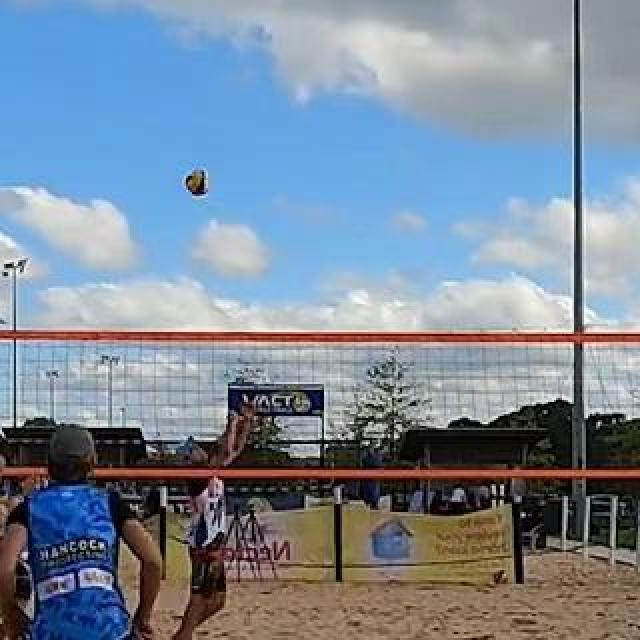volleyball: (187, 172, 209, 196), (492, 568, 510, 586)
